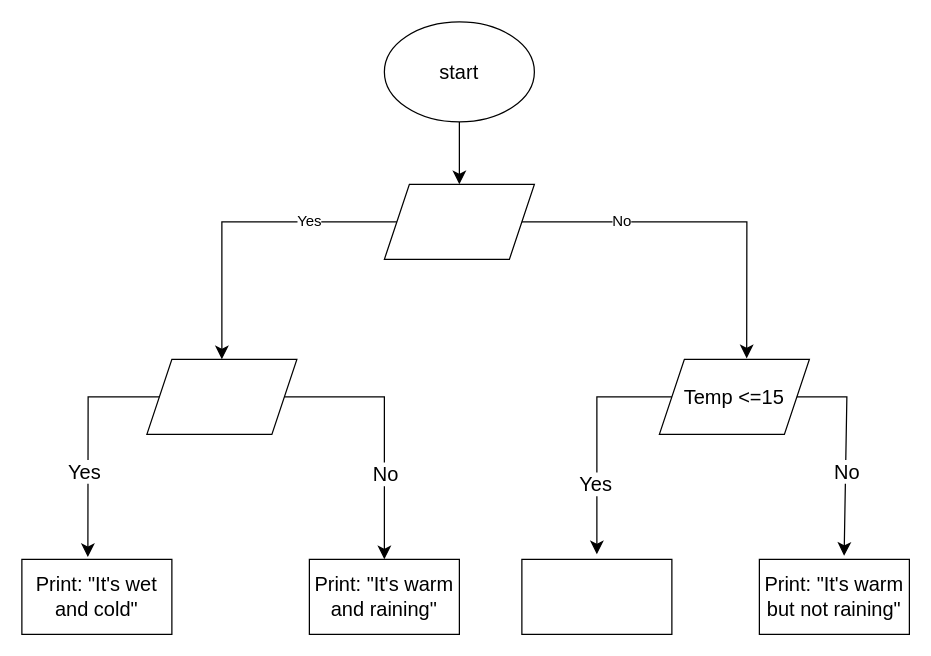
Image size: 931x656. Some labels were removed from this diagram. Here are the shapes that lost their labels. From the top down, the centre of each, then its label:
(458,221): Is it raining?
(221,396): Temp <15
(596,596): Print: "It's not raining but it's cold."
